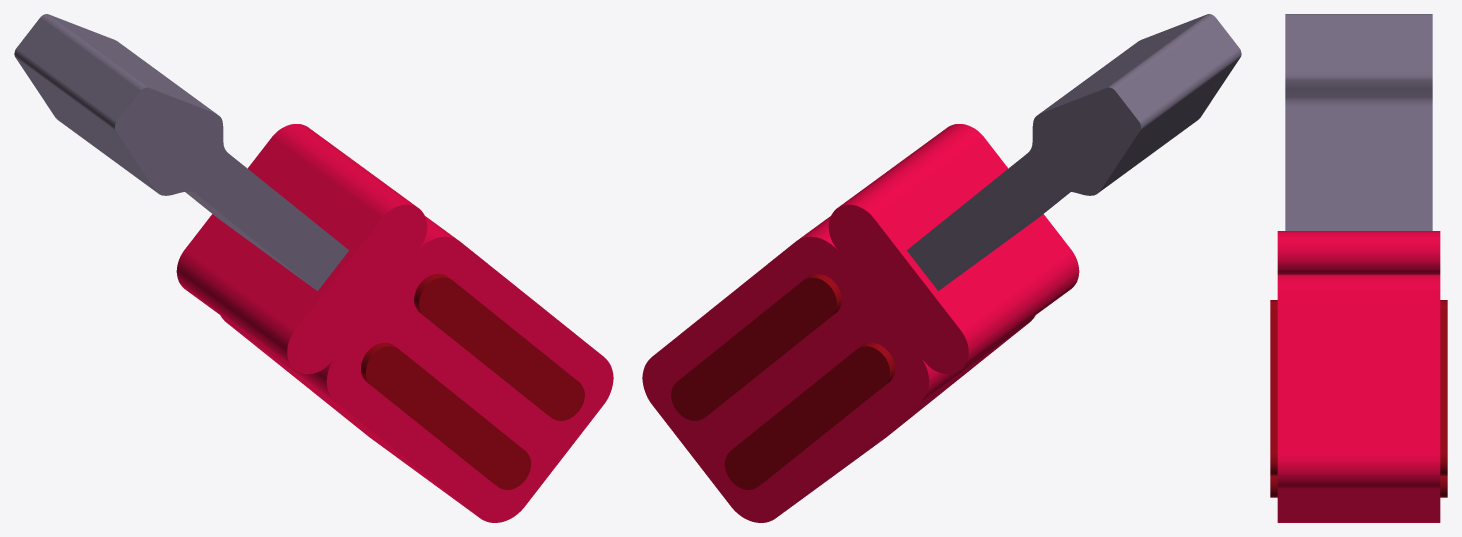
The picture shows the model from 3 angles, left to right: view 1: azimuth 30°, elevation 25°; view 2: azimuth 150°, elevation 25°; view 3: azimuth 270°, elevation 25°; orthographic projection. The views are drawn at different scales.
Parts seen in each view (by area): view 1: U+1FA9B_layer01_obj00, U+1FA9B_layer00_obj00, U+1FA9B_layer02_obj00; view 2: U+1FA9B_layer01_obj00, U+1FA9B_layer00_obj00, U+1FA9B_layer02_obj00; view 3: U+1FA9B_layer01_obj00, U+1FA9B_layer00_obj00, U+1FA9B_layer02_obj00.
Boxes of the visible parts, bbox=[...] form: U+1FA9B_layer01_obj00: bbox=[176, 124, 613, 522]; U+1FA9B_layer00_obj00: bbox=[14, 14, 348, 290]; U+1FA9B_layer02_obj00: bbox=[360, 274, 584, 489]; U+1FA9B_layer01_obj00: bbox=[642, 124, 1079, 522]; U+1FA9B_layer00_obj00: bbox=[907, 14, 1241, 290]; U+1FA9B_layer02_obj00: bbox=[671, 274, 895, 489]; U+1FA9B_layer01_obj00: bbox=[1277, 231, 1440, 522]; U+1FA9B_layer00_obj00: bbox=[1285, 14, 1432, 230]; U+1FA9B_layer02_obj00: bbox=[1270, 300, 1447, 497].
Bounding box in the file's own units: 0.5678 × 0.5677 × 0.24.
